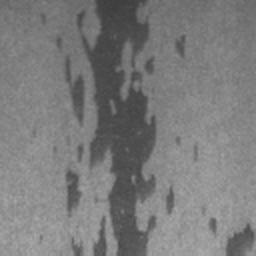Red iron sheet: (74, 0, 159, 256), (65, 54, 86, 129), (224, 220, 256, 256), (63, 166, 84, 218), (92, 214, 109, 256), (163, 186, 177, 216), (174, 33, 188, 60), (69, 234, 83, 256), (209, 216, 218, 234), (54, 35, 64, 51)
